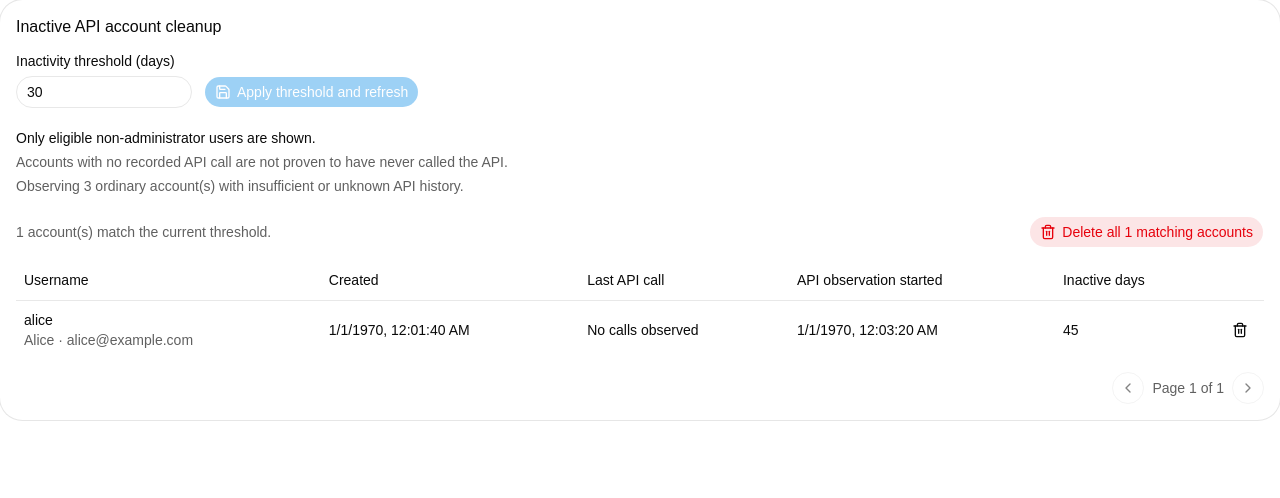
Test: inactive API account cleanup › loads settings and saves only a valid day threshold before refreshing
Expected: the button "Apply threshold and refresh" is disabled, [204,76,419,108]
Replace the text in the number field labelled "Inactivity threshold (days)" with "0" at (104, 92), box [16,76,192,108]
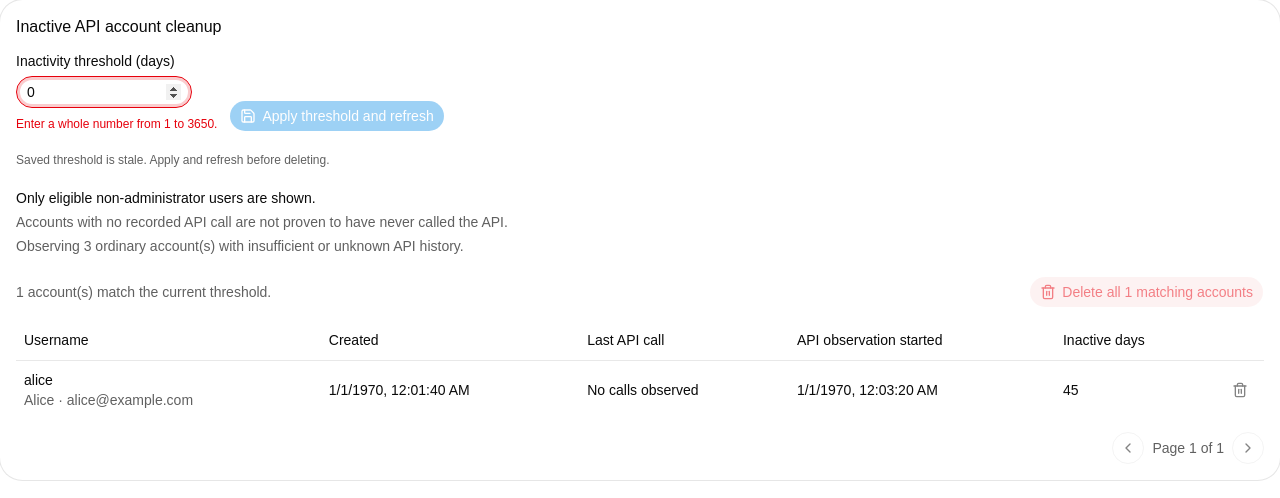
Expected: the button "Apply threshold and refresh" is disabled, [230,100,445,132]
Replace the text in the number field labelled "Inactivity threshold (days)" with "31" at (104, 92), box [16,76,192,108]
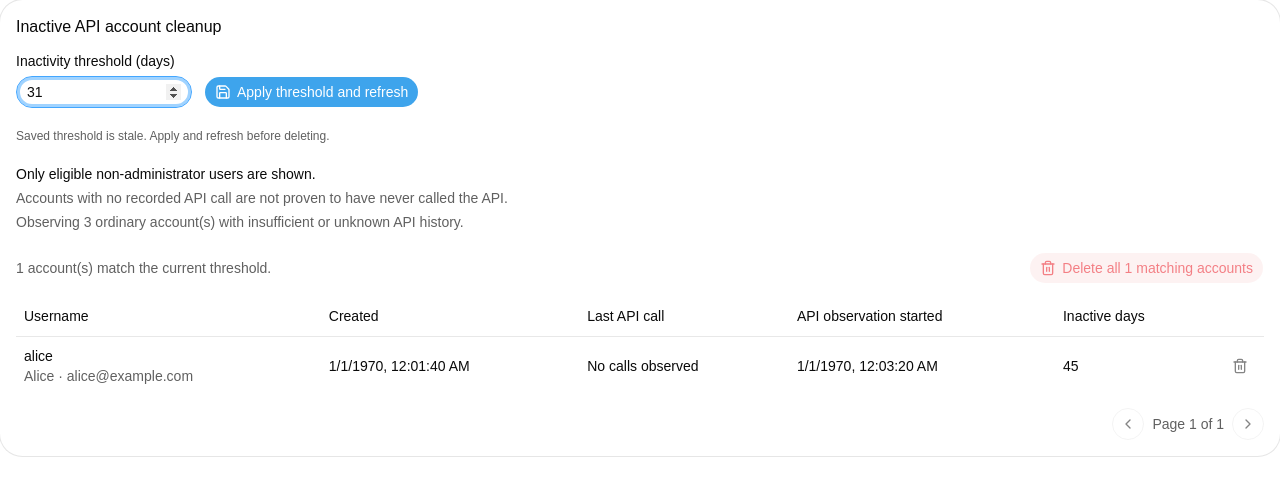
Now the button "Apply threshold and refresh" is enabled
Click the button "Apply threshold and refresh" at (312, 92), box [204,76,419,108]
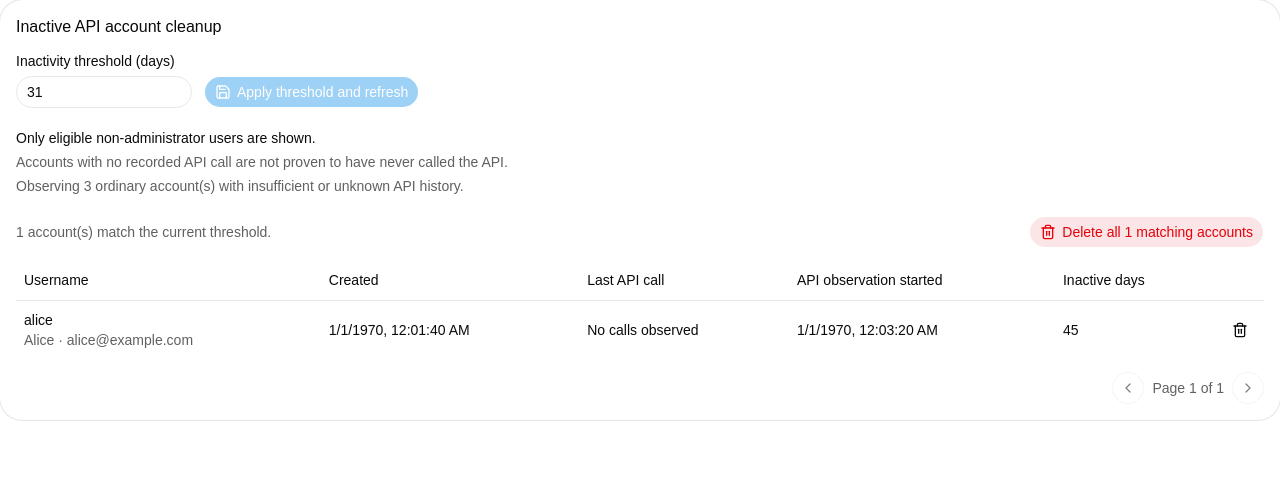
Now the button "Apply threshold and refresh" is disabled, box [204,76,419,108]
